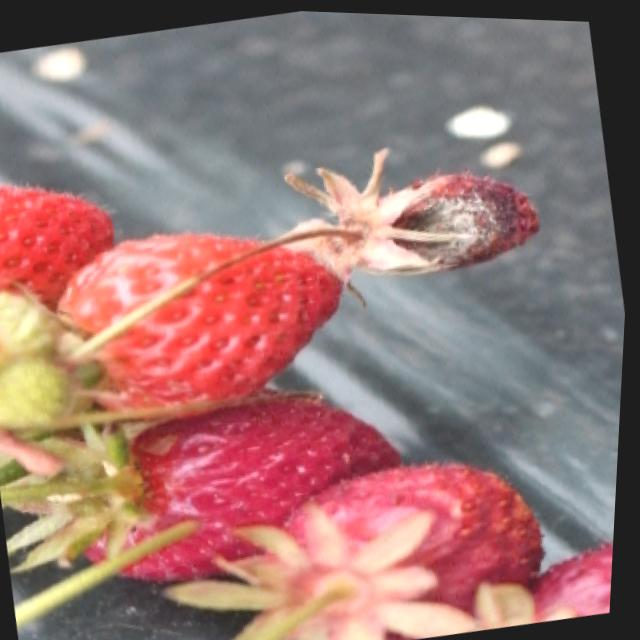Gray Mold: (284, 143, 544, 284)
